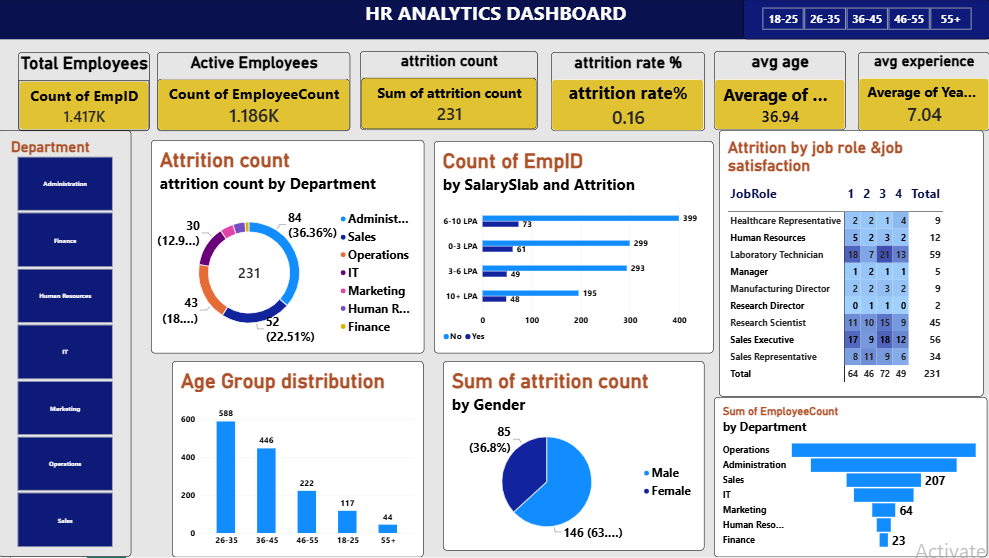

What the dashboard file says about the page in this screenshot:
{"tool":"powerbi","page":{"name":"Page 1","canvas":[1920,1080],"ordinal":0},"visuals":[{"type":"textbox","box":[0,0,1920,78.5],"z":0},{"type":"cardVisual","title":"Total Employees","fields":{"Data":["CountNonNull(HR_Analytics-4.EmpID)"]},"box":[38.3,102,255.1,153.1],"z":1000},{"type":"cardVisual","title":"Active Employees","fields":{"Data":["CountNonNull(HR_Analytics-4.EmployeeCount)"]},"box":[308.3,102,374.2,153.1],"z":2000},{"type":"cardVisual","title":"attrition count","fields":{"Data":["Sum(HR_Analytics-4.Custom)"]},"box":[701.6,99.9,344.4,153.1],"z":3000},{"type":"cardVisual","title":"attrition rate %","fields":{"Data":["HR_Analytics-4.attrition rate%"]},"box":[1069.4,102,297.6,153.1],"z":4000},{"type":"cardVisual","title":"avg age","fields":{"Data":["Avg(HR_Analytics-4.Age)"]},"box":[1386.1,99.9,255.1,153.1],"z":5000},{"type":"cardVisual","title":"avg experience","fields":{"Data":["Avg(HR_Analytics-4.YearsatCompany)"]},"box":[1664.6,102,255.1,153.1],"z":6000},{"type":"donutChart","title":" Attrition count","fields":{"Category":["HR_Analytics-4.Department"],"Y":["Sum(HR_Analytics-4.attrition count)"]},"box":[295.2,272.5,528.5,412.9],"z":7000},{"type":"clusteredBarChart","fields":{"Category":["HR_Analytics-4.SalarySlab"],"Series":["HR_Analytics-4.Attrition"],"Y":["CountNonNull(HR_Analytics-4.EmpID)"]},"box":[844.4,274.6,540.9,410.8],"z":8000},{"type":"pivotTable","title":"Attrition by job role &job satisfaction","fields":{"Columns":["HR_Analytics-4.JobSatisfaction"],"Rows":["HR_Analytics-4.JobRole"],"Values":["Sum(HR_Analytics-4.attrition count)"]},"box":[1395.6,253.9,512,516.1],"z":9000},{"type":"columnChart","title":"Age Group distribution","fields":{"Category":["HR_Analytics-4.AgeGroup"],"Y":["Sum(HR_Analytics-4.EmployeeCount)"]},"box":[336.5,699.9,487.2,379.9],"z":10000},{"type":"pieChart","fields":{"Category":["HR_Analytics-4.Gender"],"Y":["Sum(HR_Analytics-4.attrition count)"]},"box":[860.9,699.9,505.8,367.5],"z":11000},{"type":"funnel","fields":{"Category":["HR_Analytics-4.Department"],"Y":["Sum(HR_Analytics-4.EmployeeCount)"]},"box":[1385.3,770.1,528.5,309.7],"z":12000},{"type":"slicer","fields":{"Values":["HR_Analytics-4.Department"]},"box":[0,253.9,258.1,825.8],"z":13000},{"type":"slicer","fields":{"Values":["HR_Analytics-4.AgeGroup"]},"box":[1441.2,0,478.4,78.4],"z":14000}]}

Visuals, with their boxes in screenshot pixels (x1, y1, x2, y2), scaled from the page's 1920x1080 canvas onto the 989x558 screenshot:
textbox: 0 0 988 41
"Total Employees" cardVisual: 20 53 151 132
"Active Employees" cardVisual: 159 53 352 132
"attrition count" cardVisual: 361 52 539 131
"attrition rate %" cardVisual: 551 53 704 132
"avg age" cardVisual: 714 52 845 131
"avg experience" cardVisual: 857 53 988 132
" Attrition count" donutChart: 152 141 424 354
clusteredBarChart - HR_Analytics-4.SalarySlab x HR_Analytics-4.Attrition: 435 142 714 354
"Attrition by job role &job satisfaction" pivotTable: 719 131 983 398
"Age Group distribution" columnChart: 173 362 424 557
pieChart - HR_Analytics-4.Gender x Sum(HR_Analytics-4.attrition count): 443 362 704 551
funnel - HR_Analytics-4.Department x Sum(HR_Analytics-4.EmployeeCount): 714 398 986 557
slicer - HR_Analytics-4.Department: 0 131 133 557
slicer - HR_Analytics-4.AgeGroup: 742 0 988 41
